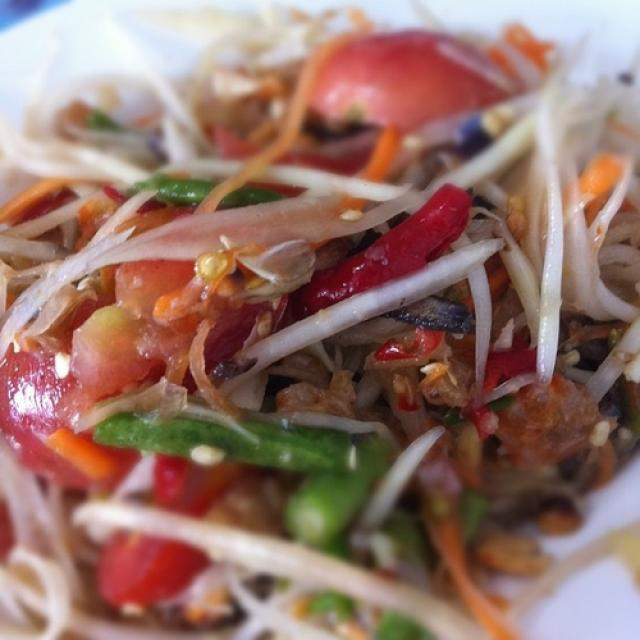蔬菜料理: (18, 23, 627, 629)
